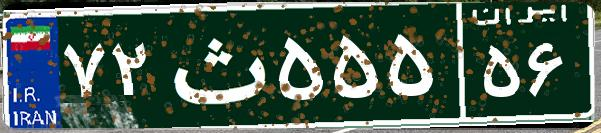2: (110, 28, 158, 105)
5: (385, 28, 445, 110), (273, 28, 330, 110), (330, 28, 385, 110), (475, 38, 525, 113)
6: (525, 38, 570, 115)
7: (57, 26, 110, 107)
ث: (158, 15, 273, 115)
